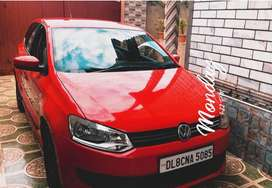DL8CNA5085: (159, 144, 213, 173)
